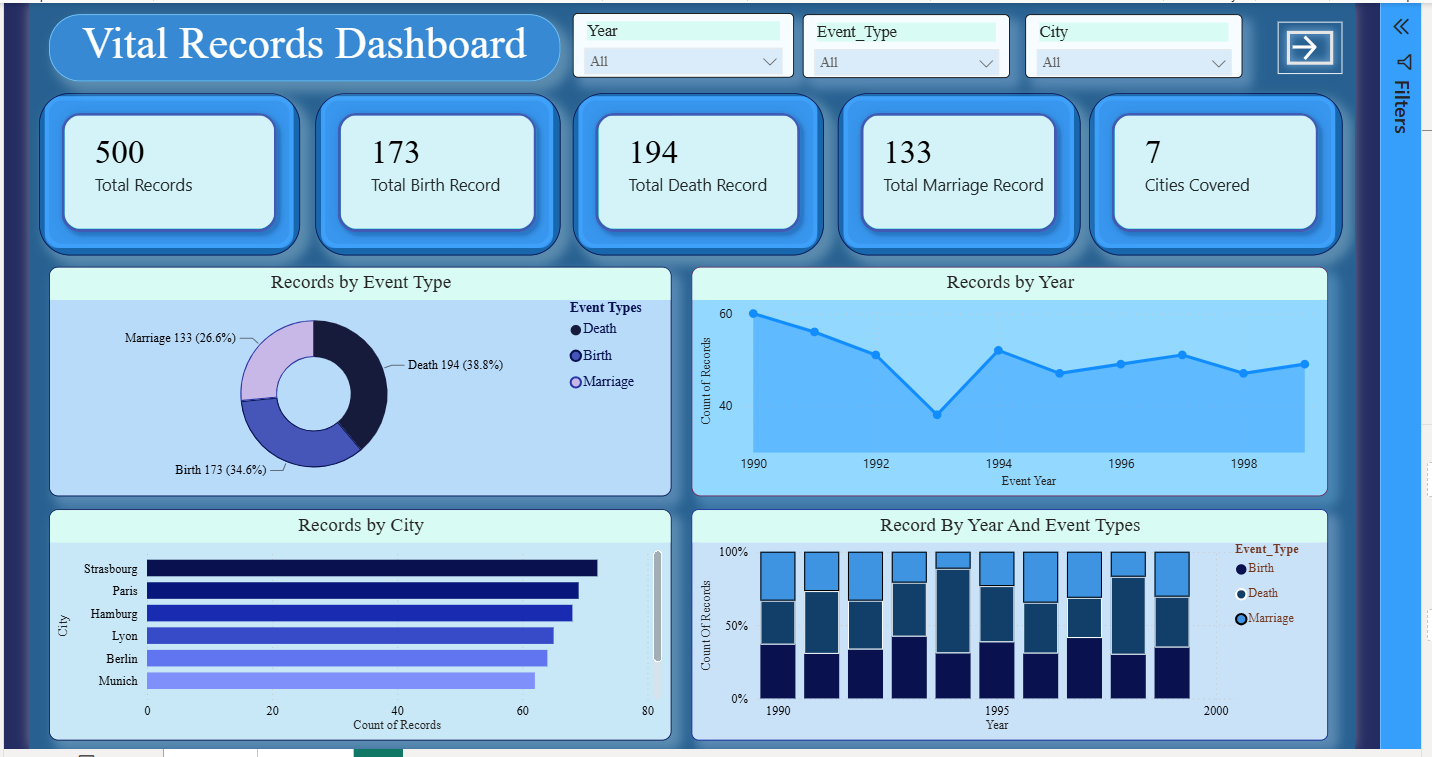

This screenshot's page, from the dashboard's own definition file:
{"tool":"powerbi","page":{"name":"Page 1","canvas":[1280,720],"ordinal":0},"visuals":[{"type":"cardVisual","fields":{"Data":["CountNonNull(cleaned_vital_records.Record_ID)"]},"box":[9.7,86.9,252.1,156.8],"z":0},{"type":"cardVisual","fields":{"Data":["CountNonNull(cleaned_vital_records.Record_ID)"]},"box":[276.3,86.9,236.5,156.8],"z":1000},{"type":"cardVisual","fields":{"Data":["CountNonNull(cleaned_vital_records.Record_ID)"]},"box":[524.8,86.9,242.5,156.8],"z":2000},{"type":"cardVisual","fields":{"Data":["CountNonNull(cleaned_vital_records.Record_ID)"]},"box":[780.6,86.9,234,156.8],"z":3000},{"type":"cardVisual","fields":{"Data":["Count(cleaned_vital_records.City)"]},"box":[1023.1,86.9,244.9,156.8],"z":4000},{"type":"donutChart","title":"Records by Event Type","fields":{"Category":["cleaned_vital_records.Event_Type"],"Y":["CountNonNull(cleaned_vital_records.Record_ID)"]},"box":[19.3,254.6,600.8,222],"z":5000},{"type":"barChart","title":"Records by City","fields":{"Category":["cleaned_vital_records.City"],"Y":["CountNonNull(cleaned_vital_records.Record_ID)"]},"box":[19.3,488.6,600.8,223.2],"z":6000},{"type":"lineChart","title":"Records by Year","fields":{"Category":["cleaned_vital_records.Event_Date.Variation.Date Hierarchy.Year"],"Y":["CountNonNull(cleaned_vital_records.Record_ID)"]},"box":[639.4,254.6,614.1,222],"z":7000},{"type":"hundredPercentStackedColumnChart","title":"Record By Year And Event Types","fields":{"Category":["cleaned_vital_records.Event_Date.Variation.Date Hierarchy.Year"],"Series":["cleaned_vital_records.Event_Type"],"Y":["CountNonNull(cleaned_vital_records.Record_ID)"]},"box":[639.4,488.6,614.1,223.2],"z":8000},{"type":"slicer","fields":{"Values":["cleaned_vital_records.Event_Date.Variation.Date Hierarchy.Year"]},"box":[524.8,9.7,213.5,62.7],"z":9000},{"type":"slicer","fields":{"Values":["cleaned_vital_records.Event_Type"]},"box":[746.8,10.9,200.3,61.5],"z":10000},{"type":"slicer","fields":{"Values":["cleaned_vital_records.City"]},"box":[961.5,10.9,209.9,61.5],"z":11000},{"type":"textbox","box":[19.3,10.9,493.4,65.1],"z":12000},{"type":"actionButton","box":[1205.2,18.1,62.7,50.7],"z":13000}]}

Visuals, with their boxes on the page's 1280x720 design canvas (x1, y1, x2, y2). These are canvas units, not pixel positions in the 1432x757 screenshot, which may show the page scaled, cropped or inside an application window:
cardVisual - CountNonNull(cleaned_vital_records.Record_ID): (left=10, top=87, right=262, bottom=244)
cardVisual - CountNonNull(cleaned_vital_records.Record_ID): (left=276, top=87, right=513, bottom=244)
cardVisual - CountNonNull(cleaned_vital_records.Record_ID): (left=525, top=87, right=767, bottom=244)
cardVisual - CountNonNull(cleaned_vital_records.Record_ID): (left=781, top=87, right=1015, bottom=244)
cardVisual - Count(cleaned_vital_records.City): (left=1023, top=87, right=1268, bottom=244)
"Records by Event Type" donutChart: (left=19, top=255, right=620, bottom=477)
"Records by City" barChart: (left=19, top=489, right=620, bottom=712)
"Records by Year" lineChart: (left=639, top=255, right=1254, bottom=477)
"Record By Year And Event Types" hundredPercentStackedColumnChart: (left=639, top=489, right=1254, bottom=712)
slicer - cleaned_vital_records.Event_Date.Variation.Date Hierarchy.Year: (left=525, top=10, right=738, bottom=72)
slicer - cleaned_vital_records.Event_Type: (left=747, top=11, right=947, bottom=72)
slicer - cleaned_vital_records.City: (left=962, top=11, right=1171, bottom=72)
textbox: (left=19, top=11, right=513, bottom=76)
actionButton: (left=1205, top=18, right=1268, bottom=69)
